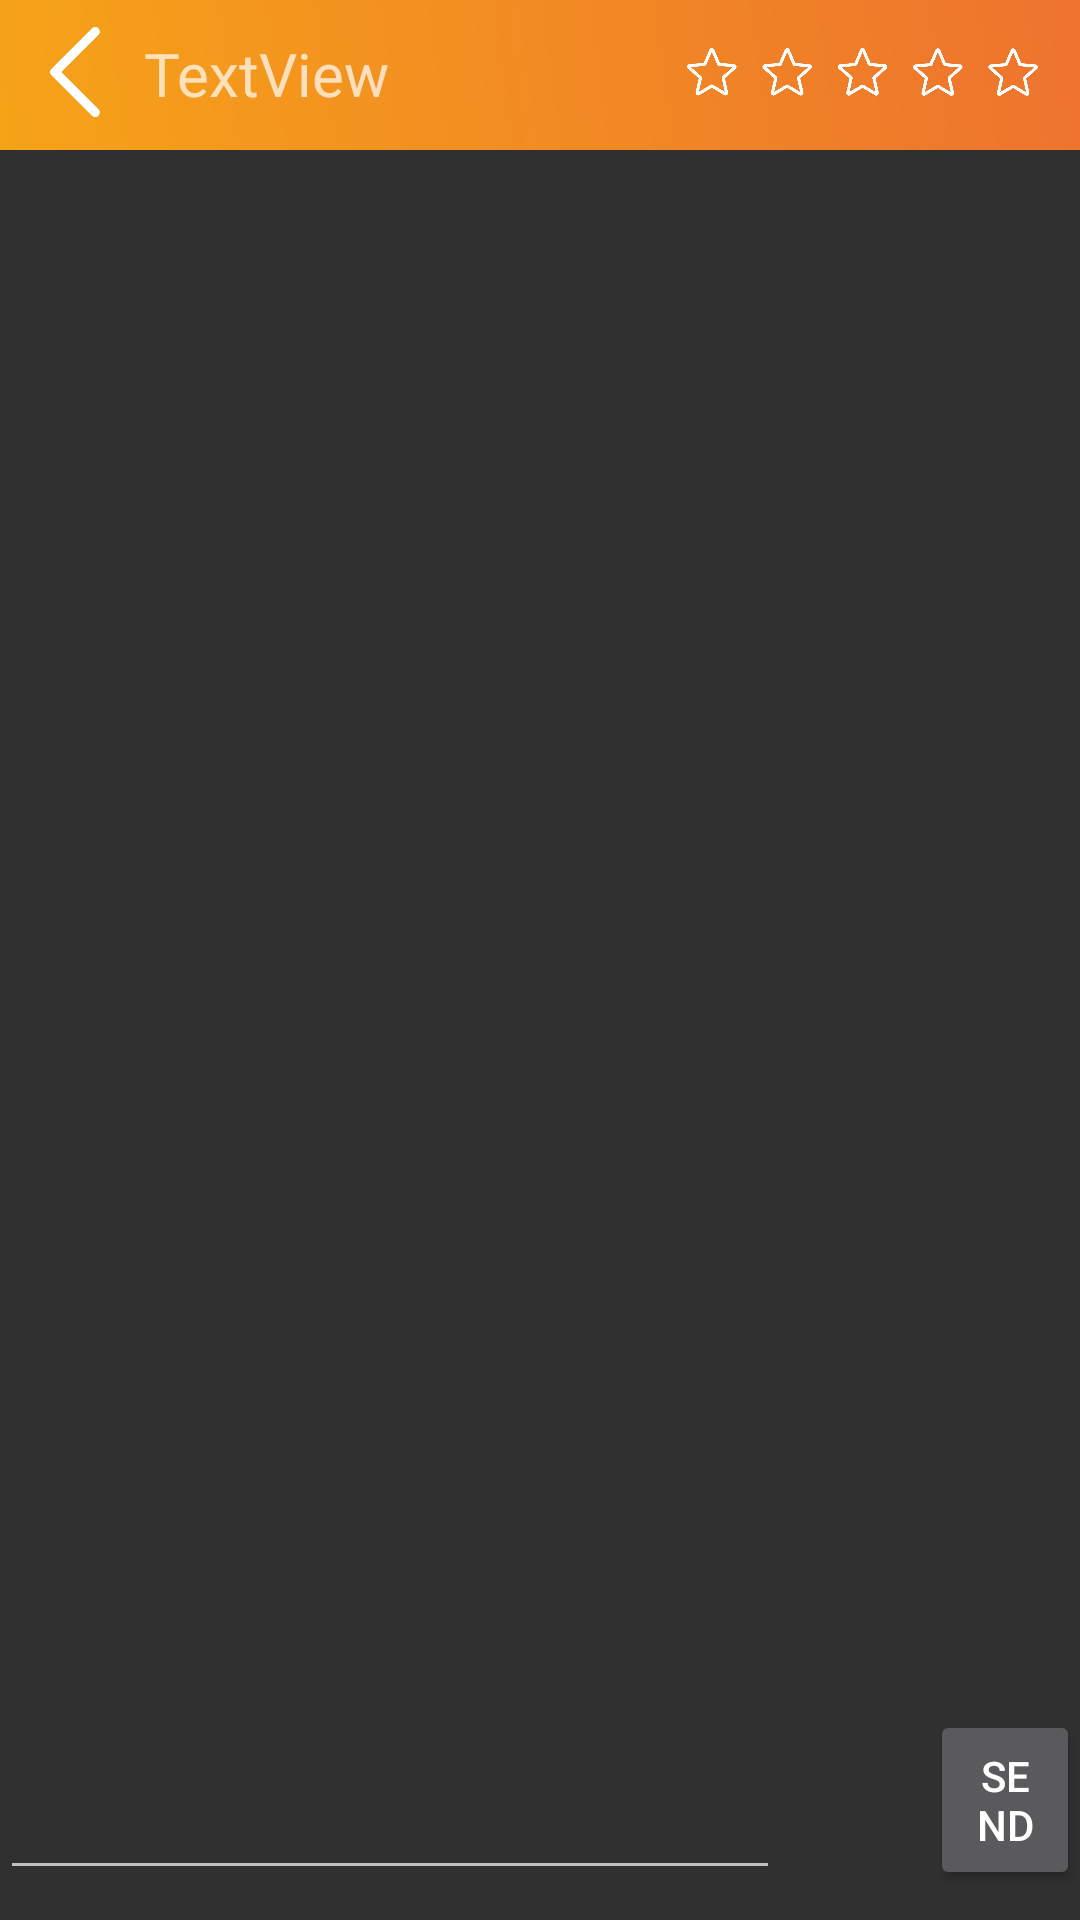

Named icons in this screenshot (1080x1920) and their centers, [x,y]:
returnbuttonimg: [75,72]
